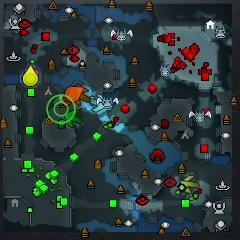p4: (23, 66, 38, 86)
p5: (65, 87, 84, 101)
x1: (23, 67, 39, 77)
x2: (181, 176, 199, 193)
x3: (90, 94, 104, 112)
x4: (65, 110, 82, 127)
x5: (74, 87, 90, 104)
